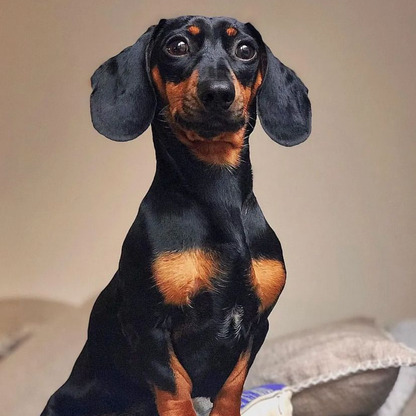dachshund: (57, 13, 342, 362)
